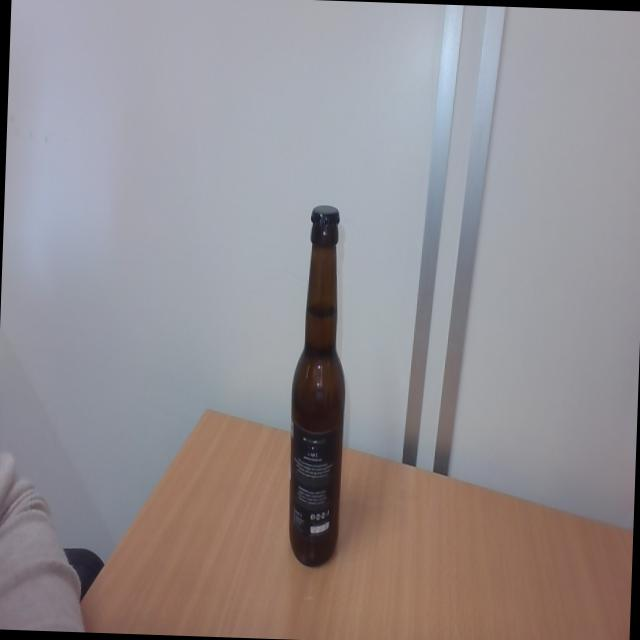Bottle: (286, 228, 351, 570)
Cap: (310, 200, 340, 228)
Label: (287, 424, 339, 540)
